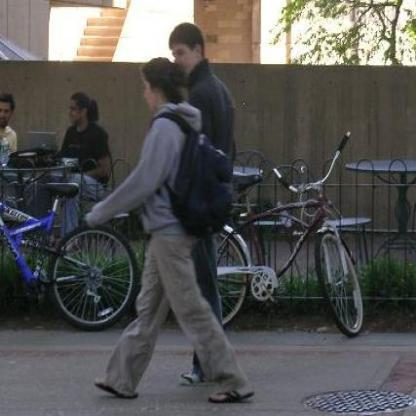person: (107, 57, 253, 409)
